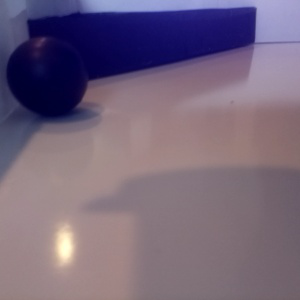zone: (27, 5, 256, 82)
